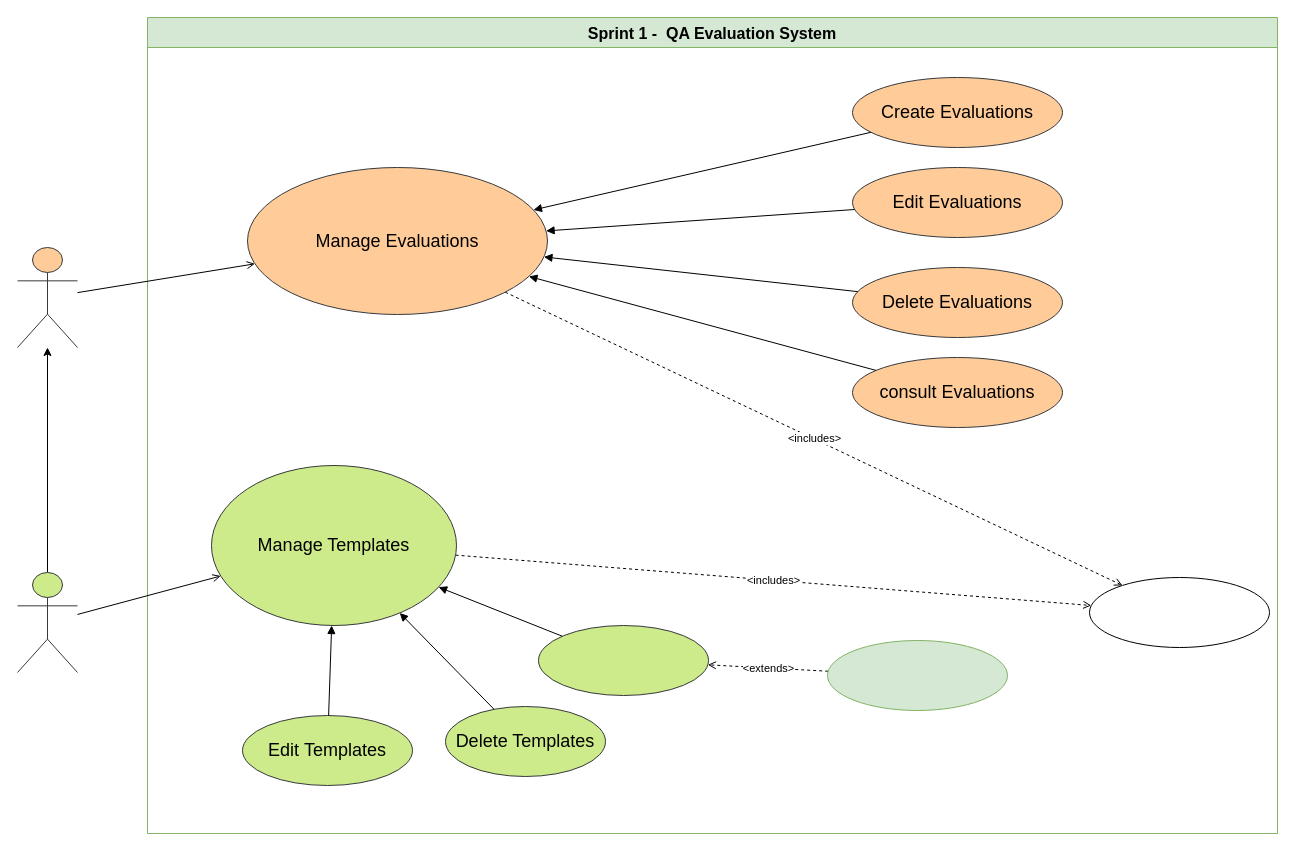
This 1295x851 diagram has some shape labels left out. Here are the shapes that lost their labels. From the top down, the box of each, then its label:
(16, 246, 78, 348): Manager
(16, 572, 78, 672): Admin
(1088, 576, 1270, 648): Login
(538, 624, 708, 696): Create Templates
(826, 640, 1008, 710): add criteria / subcriteria
